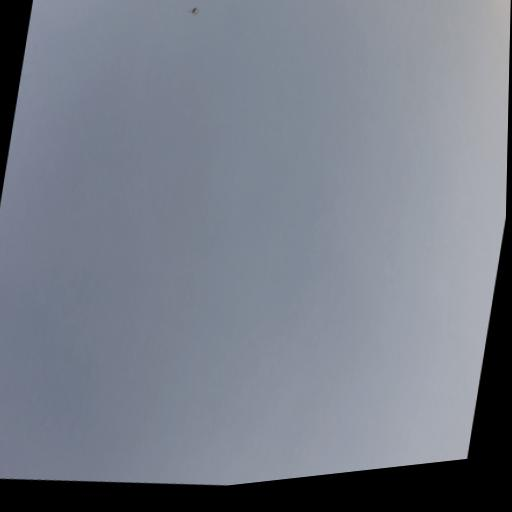drones: (187, 4, 201, 20)
